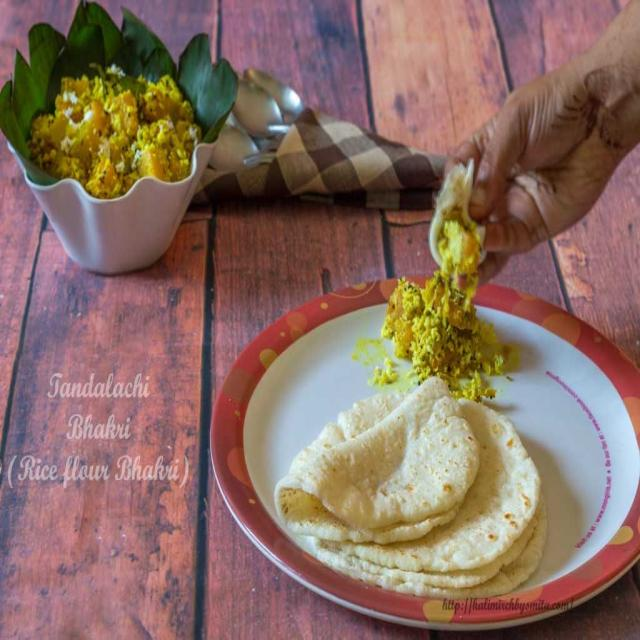RICE BHAKRI: (308, 384, 550, 607), (269, 374, 479, 549)
